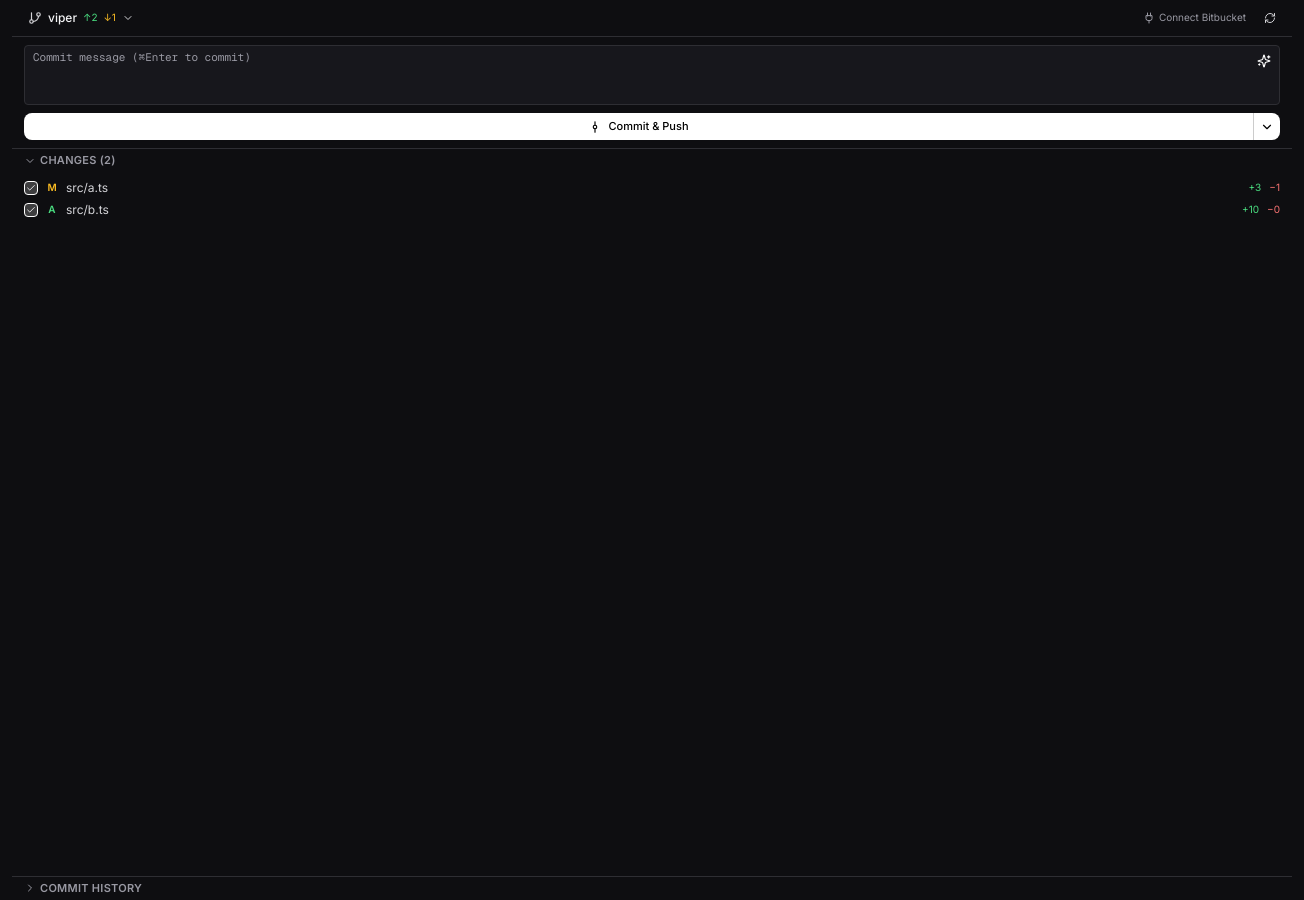
Test: SourceControlView › refuses to commit without a message (via Git actions Commit)
Check: the button with test id "scm-file-src/a.ts" is shown, box left=24, top=181, right=58, bottom=195
Click the button with test id "scm-actions-trigger" at (1266, 127), box left=1253, top=113, right=1280, bottom=140
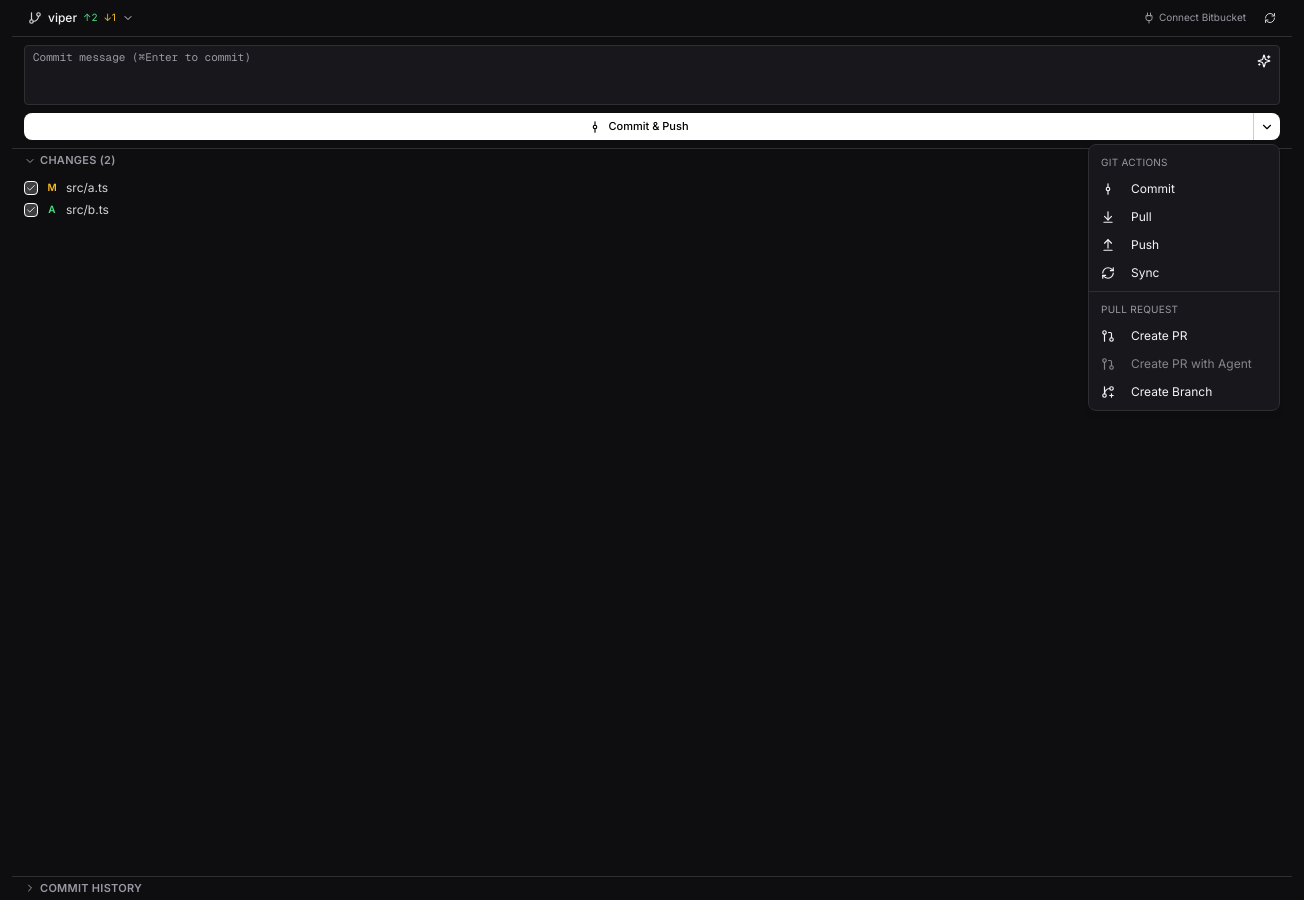
Check: the menu item with test id "scm-action-push" is shown, box left=1101, top=237, right=1159, bottom=252
Click the menu item with test id "scm-action-commit" at (1138, 188), box left=1101, top=181, right=1175, bottom=196
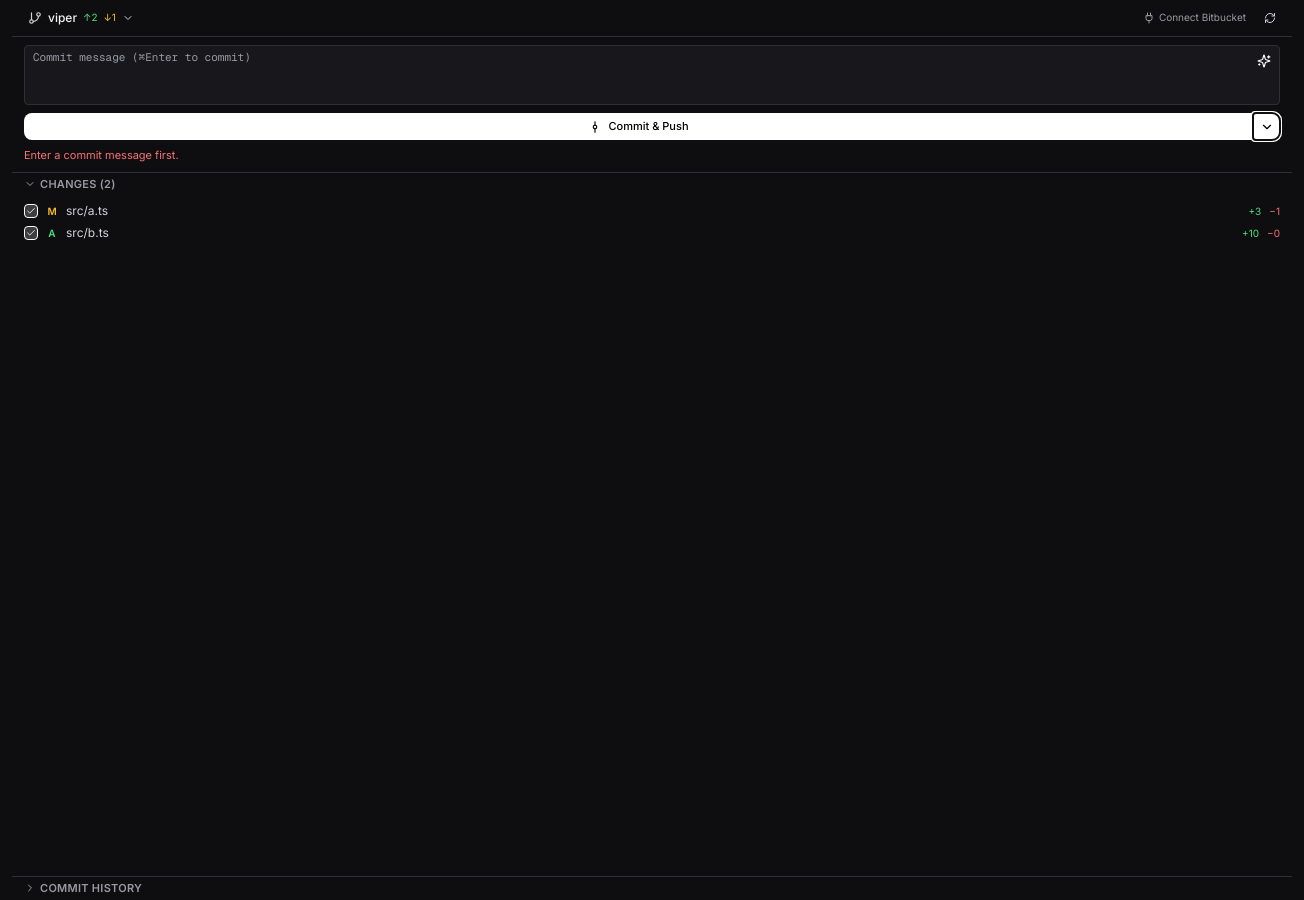
Check: the text with test id "scm-feedback" shows "commit message", box left=24, top=148, right=179, bottom=162
